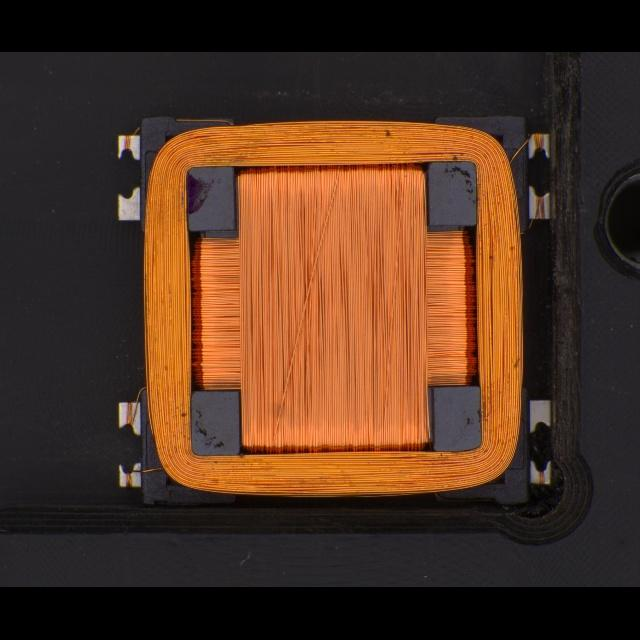Winding_Z: (137, 116, 527, 501)
